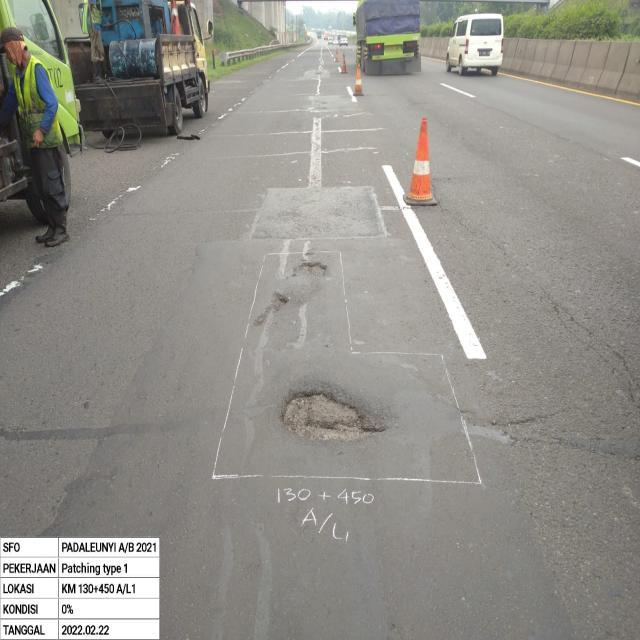Buraco: (274, 386, 392, 448), (249, 290, 294, 330), (296, 260, 330, 278)
